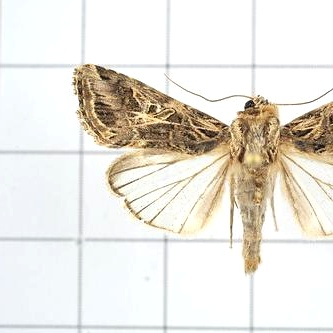Spodoptera litura: (70, 64, 332, 279)
